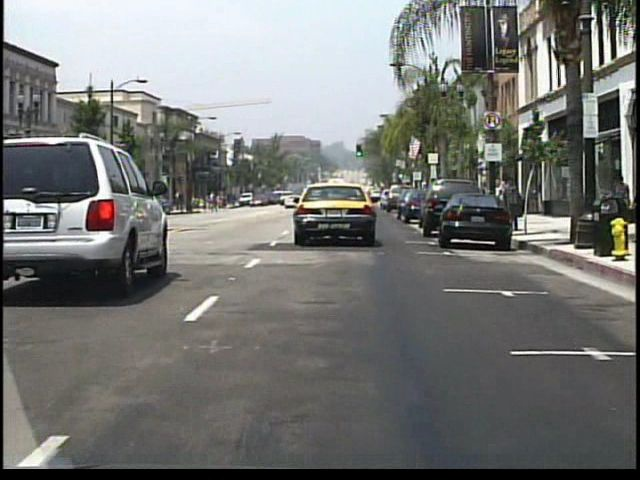person: (603, 172, 630, 241), (494, 180, 507, 215), (229, 195, 237, 211)
